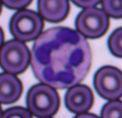N: (31, 26, 91, 88)
